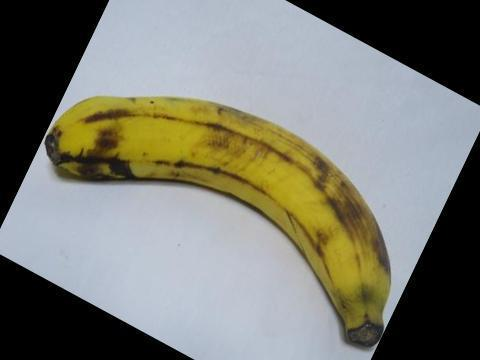overripe: (39, 85, 397, 339)
